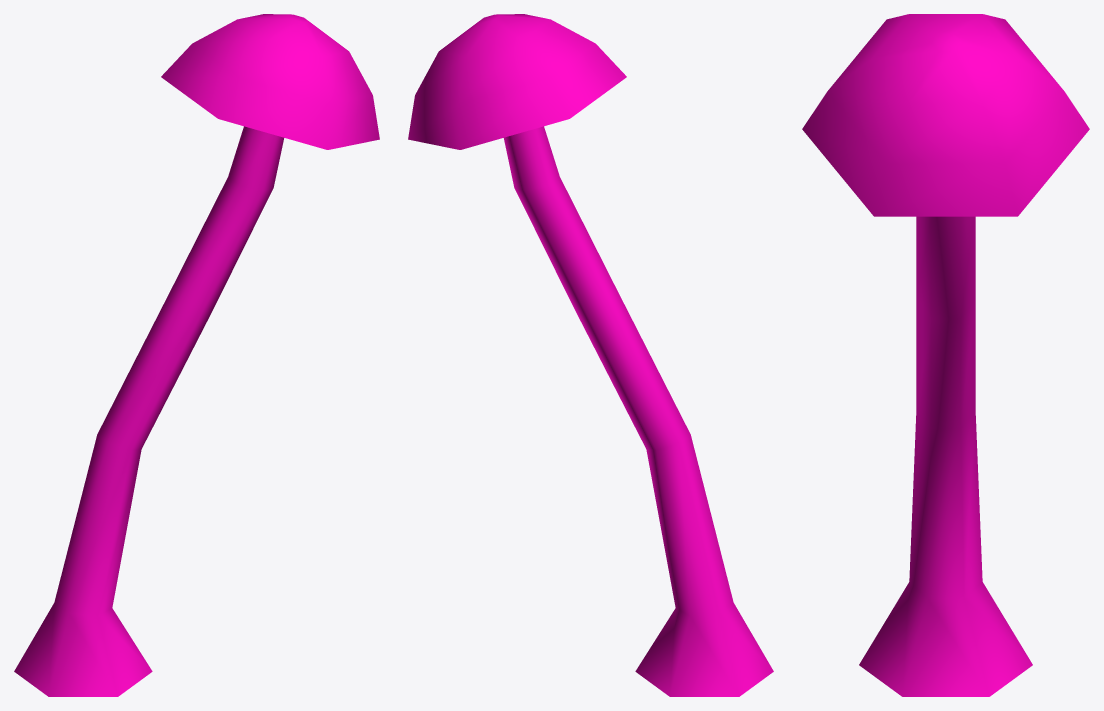
File: MushroomBig.fbx
3 renders of one model, left to right at view 1: azimuth 30°, elevation 25°; view 2: azimuth 150°, elevation 25°; view 3: azimuth 270°, elevation 25°, orthographic. The views are drawn at different scales.
Parts seen in each view (by area): view 1: MushroomBig; view 2: MushroomBig; view 3: MushroomBig.
Boxes of the visible parts, x1,y1,x2,y2 form: MushroomBig: (14, 14, 379, 696); MushroomBig: (408, 14, 773, 696); MushroomBig: (802, 14, 1089, 696).
Size of the model in its own units: 54.97 by 99.05 by 34.08.
